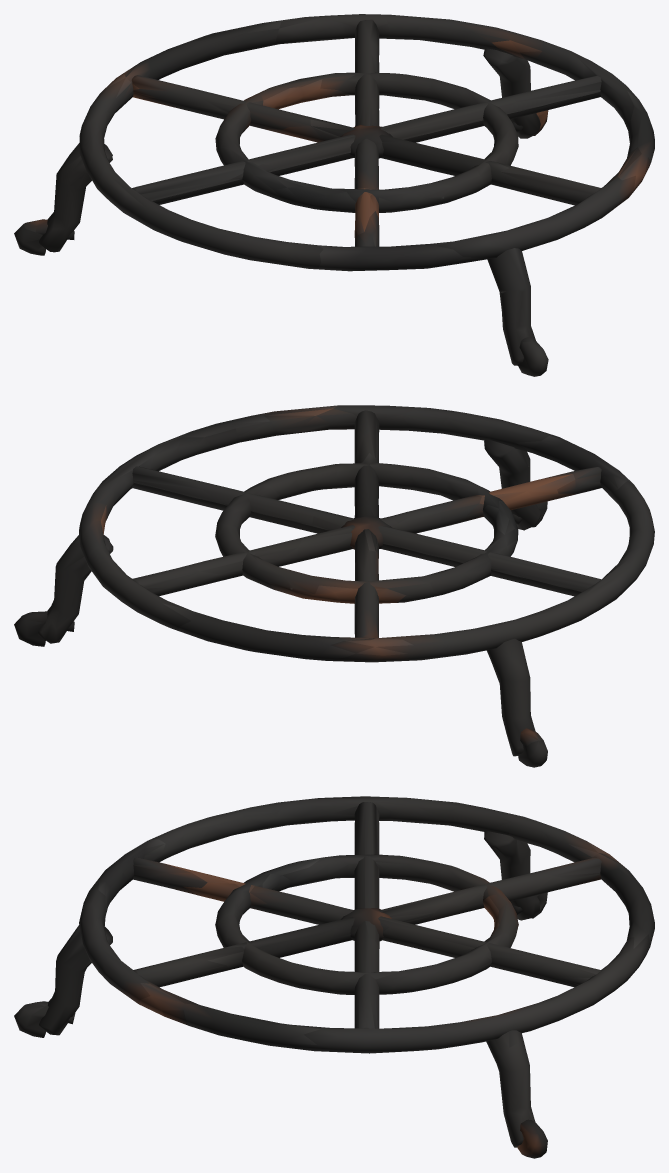
Rendered from ember_trivet_lod1.glb.
3 views of the same model, one above another, from view 1: azimuth 30°, elevation 25°; view 2: azimuth 150°, elevation 25°; view 3: azimuth 270°, elevation 25° (orthographic).
Parts seen in each view (by area): view 1: ember_trivet.001; view 2: ember_trivet.001; view 3: ember_trivet.001.
Boxes of the visible parts, x1,y1,x2,y2 form: ember_trivet.001: (14, 14, 654, 376); ember_trivet.001: (14, 405, 654, 767); ember_trivet.001: (14, 796, 654, 1158).
Bounding box in the file's own units: 29.83 × 6.74 × 31.21.
